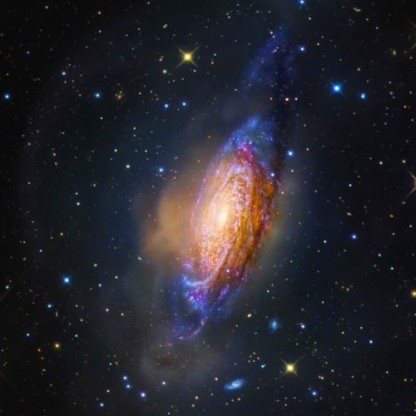NGC 3521: (122, 28, 302, 380)
